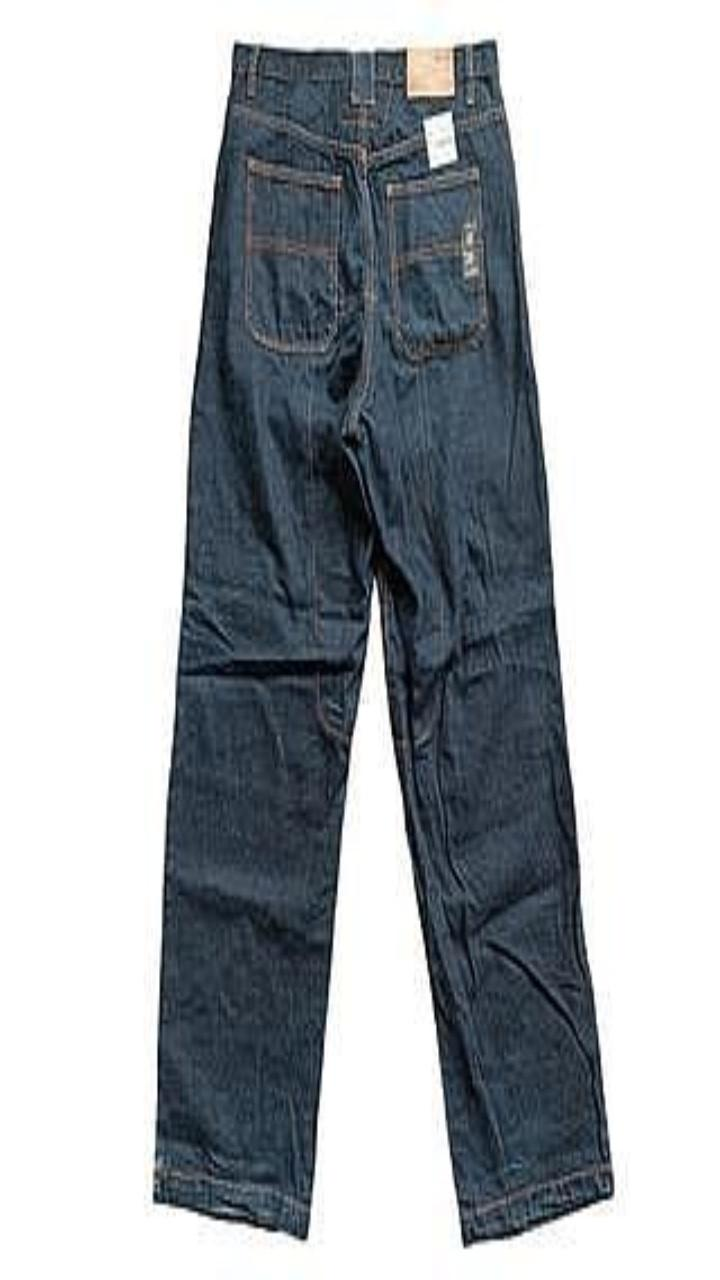Jeans: (154, 42, 612, 1242)
